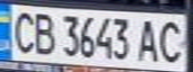3: (109, 15, 136, 61), (57, 12, 81, 59)
4: (93, 14, 115, 61)
6: (78, 12, 96, 60)
A: (133, 17, 163, 63)
B: (30, 9, 57, 56)
C: (154, 17, 187, 64), (6, 8, 39, 55)
